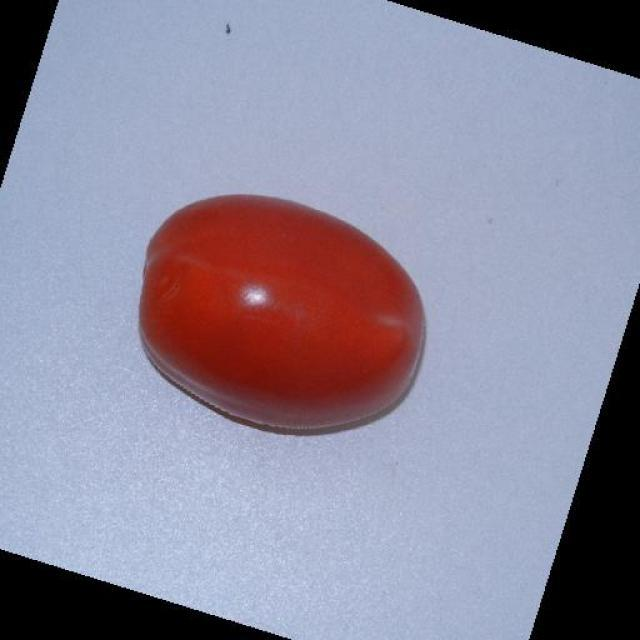Fresh Tomato: (124, 170, 435, 450)
